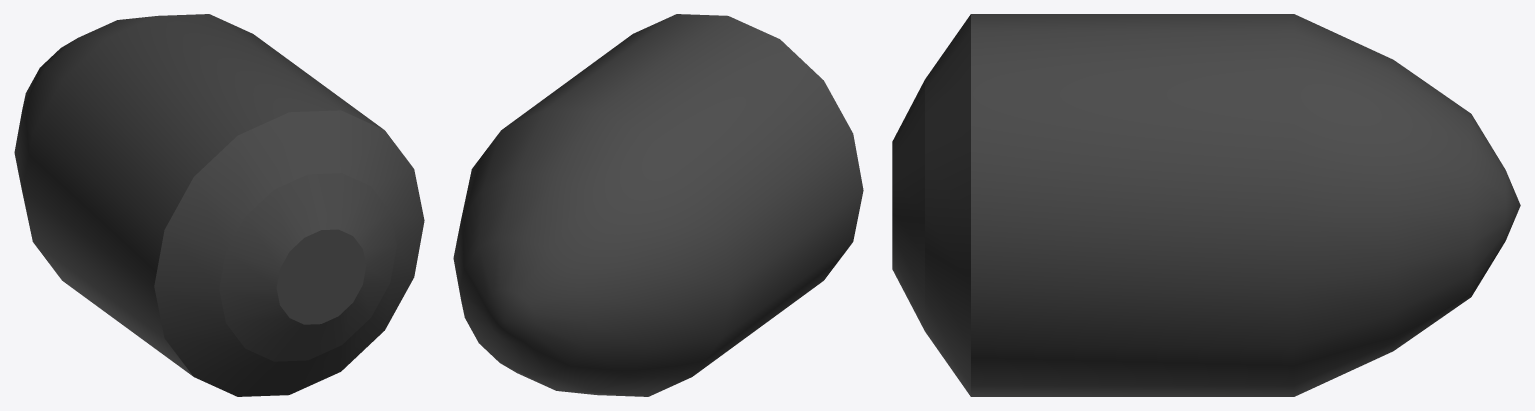
Rendered from ap_bullet_37.fbx.
3 views of the same model, side by side, from view 1: azimuth 30°, elevation 25°; view 2: azimuth 150°, elevation 25°; view 3: azimuth 270°, elevation 25° (orthographic). The views are drawn at different scales.
Visible parts, largest first — view 1: Cylinder; view 2: Cylinder; view 3: Cylinder.
Boxes of the visible parts, x1,y1,x2,y2 form: Cylinder: (14,14,424,396); Cylinder: (453,14,863,396); Cylinder: (892,14,1520,396).
Size of the model in its own units: 82.76 by 82.76 by 136.
